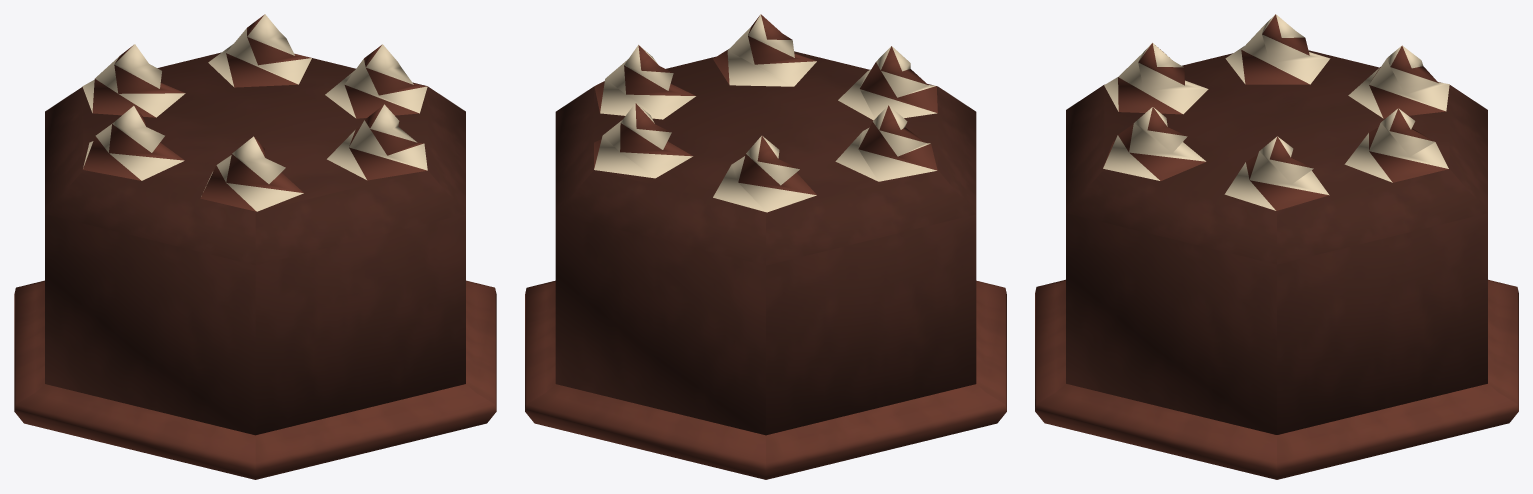
The model's file is Cake_B_08.FBX.
3 renders of one model, left to right at view 1: azimuth 30°, elevation 25°; view 2: azimuth 150°, elevation 25°; view 3: azimuth 270°, elevation 25°, orthographic.
Parts seen in each view (by area): view 1: Cake_2; view 2: Cake_2; view 3: Cake_2.
Part boxes in pixels (bbox=[...]): Cake_2: bbox=[14, 14, 496, 479]; Cake_2: bbox=[525, 14, 1006, 479]; Cake_2: bbox=[1035, 14, 1518, 479].
Bounding box in the file's own units: 117 × 67.83 × 101.
